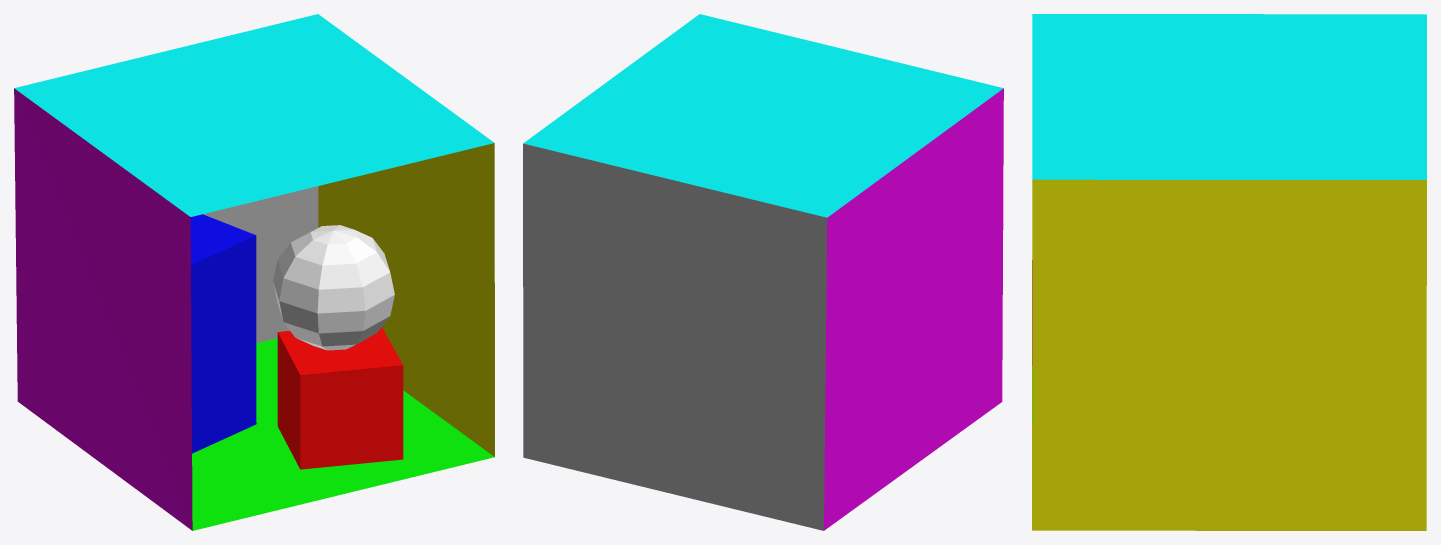
The model's file is cornell-box-sphere.obj.
3 renders of one model, left to right at view 1: azimuth 30°, elevation 25°; view 2: azimuth 150°, elevation 25°; view 3: azimuth 270°, elevation 25°, orthographic. The views are drawn at different scales.
Parts seen in each view (by area): view 1: left_wall, ceiling, right_wall, floor, short_box, tall_box, sphere, back_wall; view 2: back_wall, left_wall, ceiling; view 3: right_wall, ceiling.
Boxes of the visible parts, left/top/right/bottom form: left_wall: left=14, top=88, right=192, bottom=530; ceiling: left=14, top=14, right=494, bottom=216; right_wall: left=318, top=143, right=494, bottom=456; floor: left=192, top=338, right=494, bottom=530; short_box: left=277, top=327, right=403, bottom=469; tall_box: left=190, top=214, right=256, bottom=453; sphere: left=273, top=225, right=394, bottom=350; back_wall: left=203, top=186, right=318, bottom=343; back_wall: left=523, top=143, right=827, bottom=530; left_wall: left=824, top=88, right=1003, bottom=530; ceiling: left=523, top=14, right=1003, bottom=217; right_wall: left=1032, top=179, right=1426, bottom=530; ceiling: left=1032, top=14, right=1426, bottom=179.
Size of the model in its own units: 5.56 by 5.49 by 5.6.
